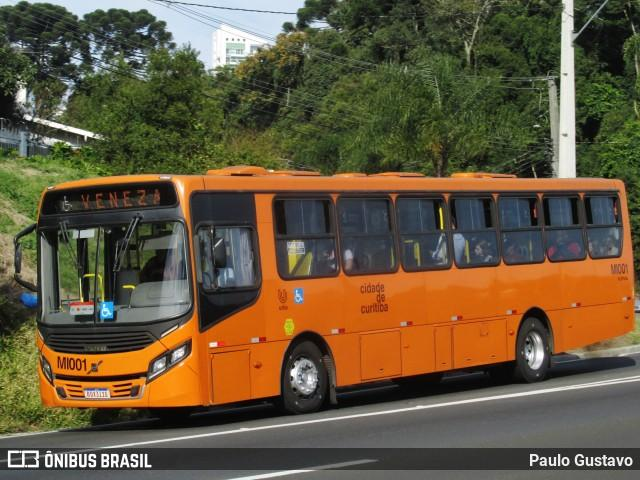VENEZA: (77, 185, 163, 211)
